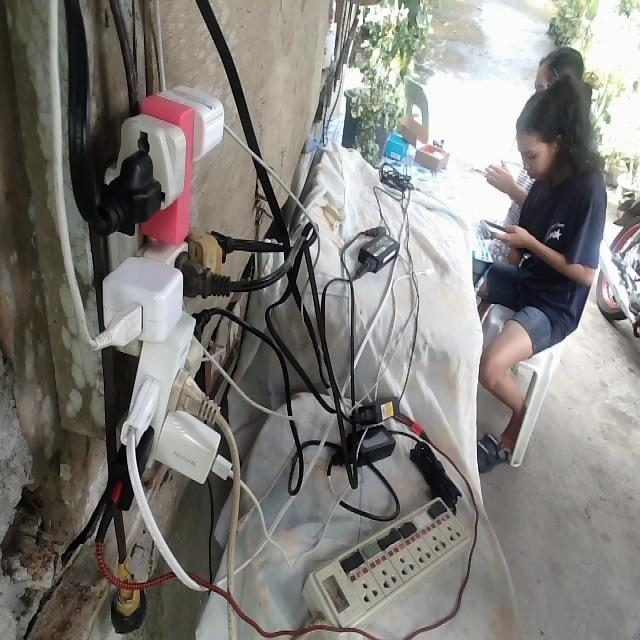-: (66, 75, 240, 516)
